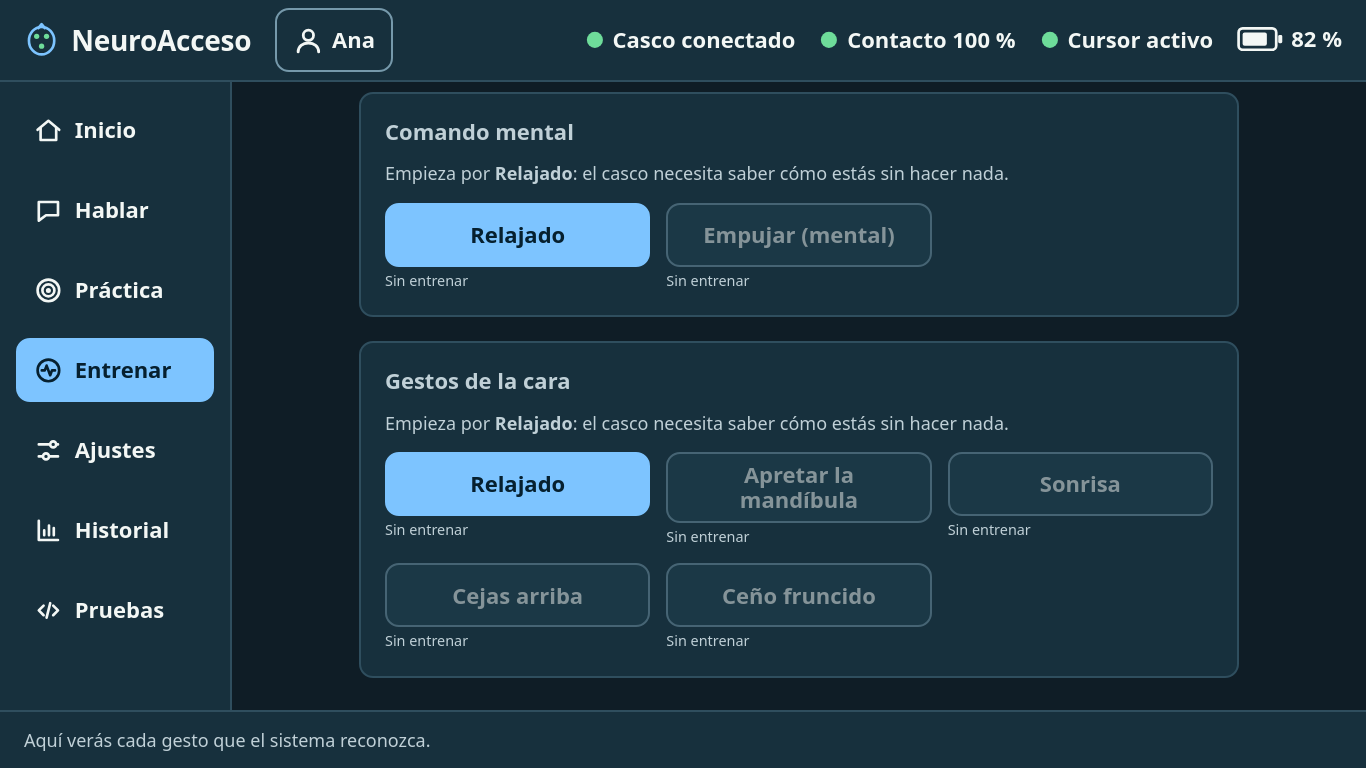
Test case: entrenamiento › rechazar descarta la toma y vuelve a elegir
(page scrolled)
Click the button "Relajado" below "Gestos de la cara" at (518, 484), box top-left (385, 452), bottom-right (650, 516)
Wait 1000 ms
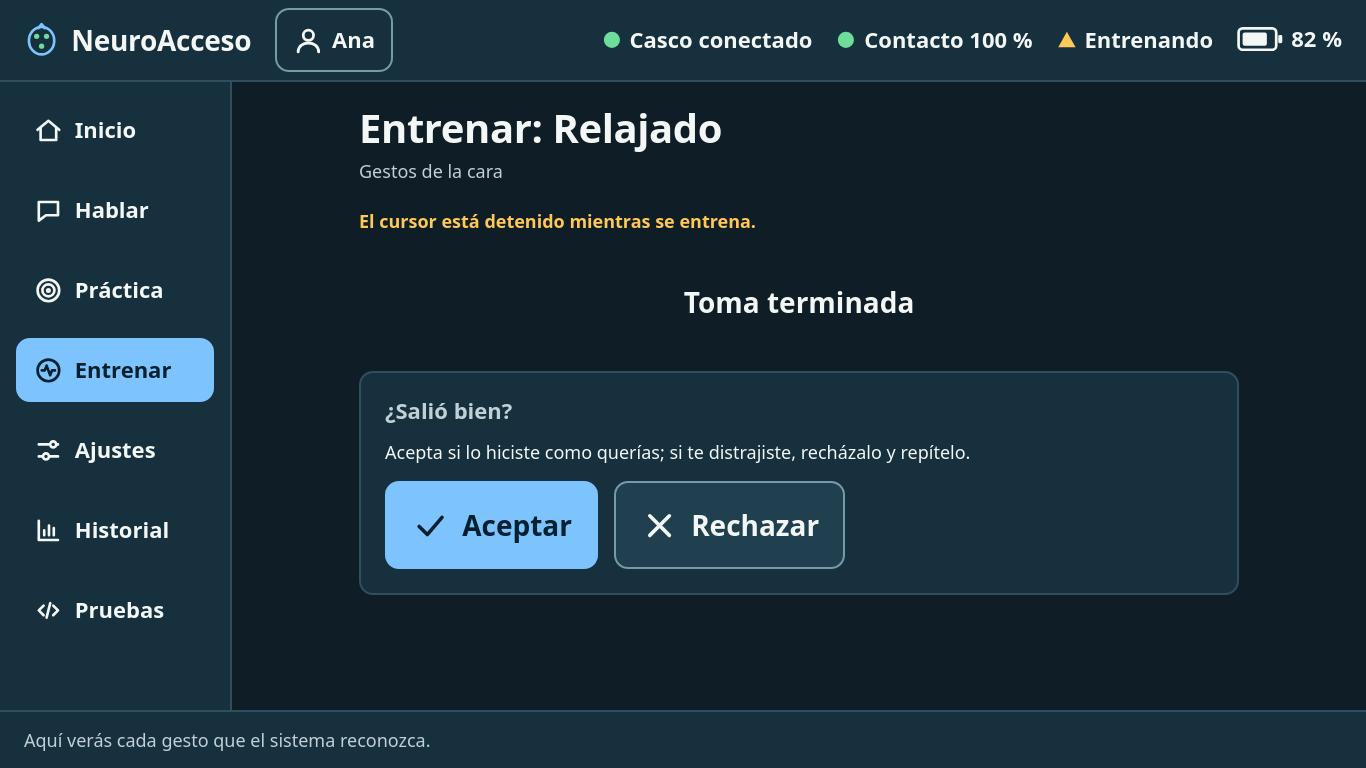
Click the button "Rechazar" at (730, 525), box top-left (614, 481), bottom-right (845, 569)
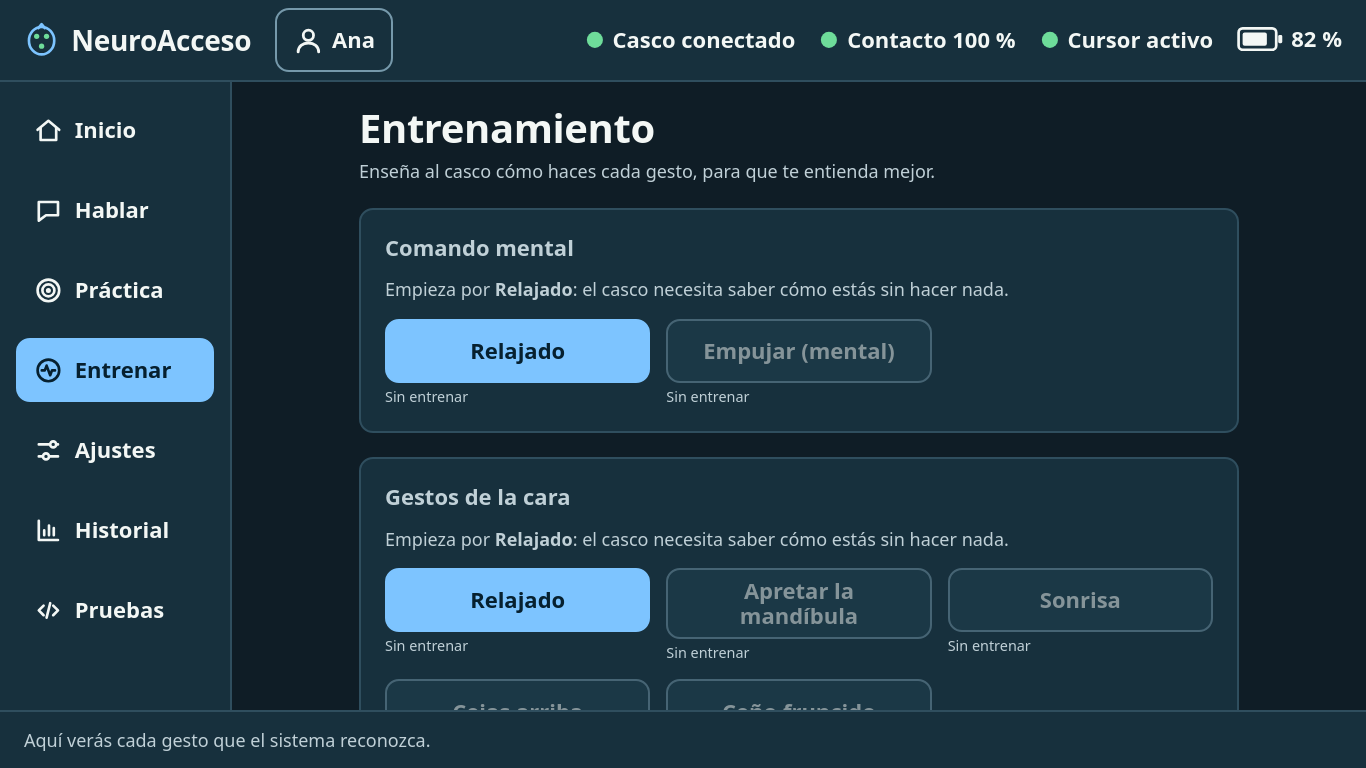
Check: the 3rd text "Sin entrenar" is shown, box top-left (385, 636), bottom-right (468, 655)
